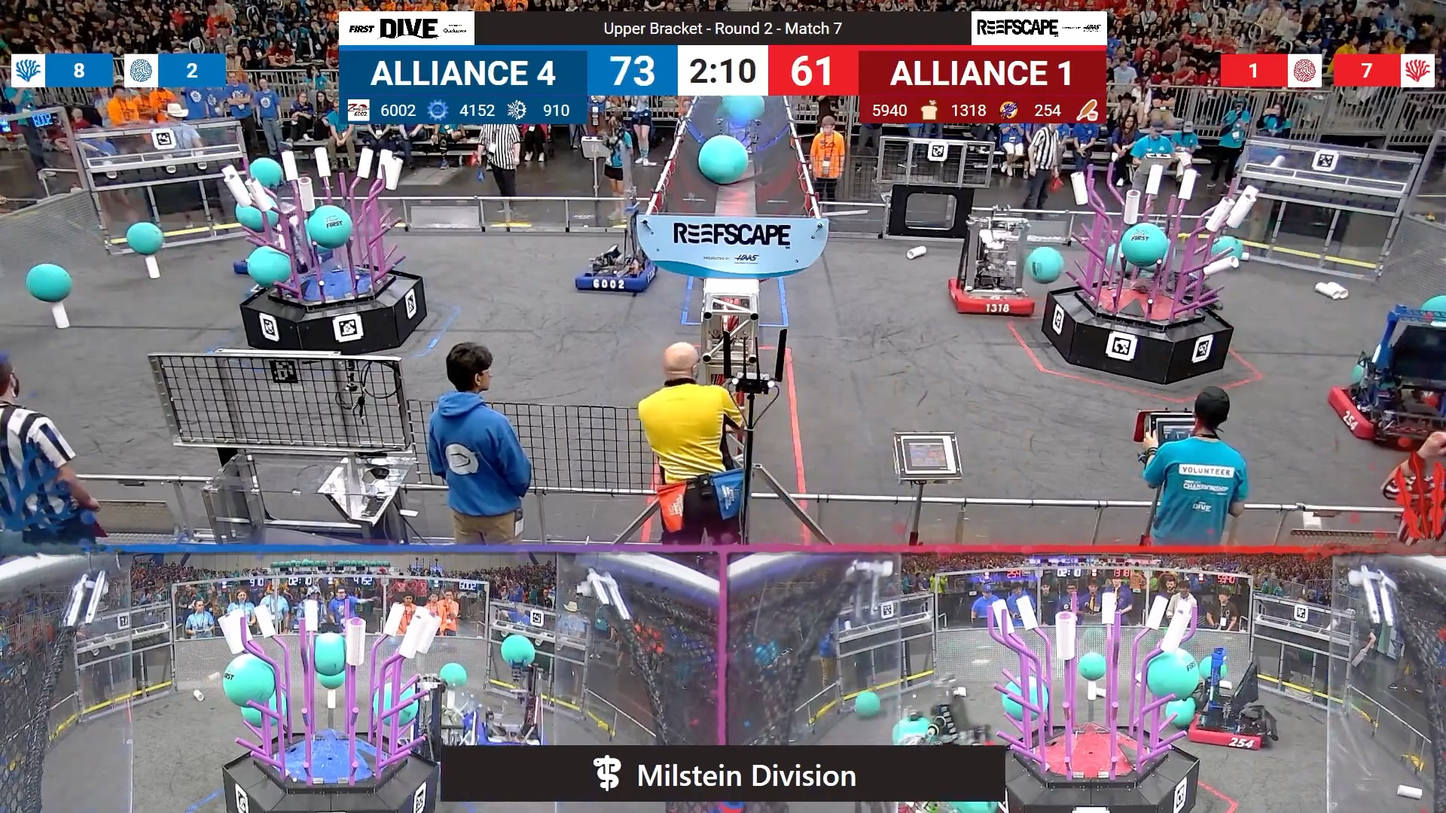bumpers: (1327, 382, 1446, 453), (945, 273, 1046, 325), (1178, 703, 1276, 756), (574, 252, 667, 295), (464, 712, 550, 746)
